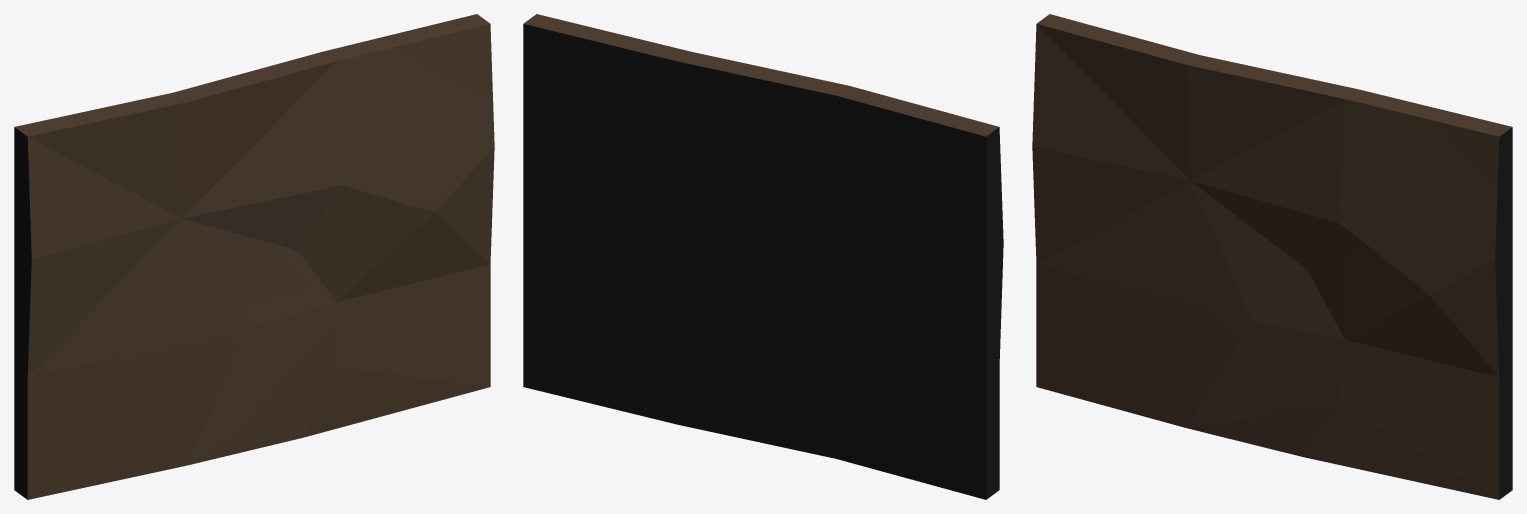
Rendered from fantasy_dungeon-wall-dirt.fbx.
3 views of the same model, side by side, from view 1: azimuth 30°, elevation 25°; view 2: azimuth 150°, elevation 25°; view 3: azimuth 330°, elevation 25° (orthographic).
Visible parts, largest first — view 1: fantasy_dungeon_wall_dirt; view 2: fantasy_dungeon_wall_dirt; view 3: fantasy_dungeon_wall_dirt.
Boxes of the visible parts, x1,y1,x2,y2 form: fantasy_dungeon_wall_dirt: [14, 14, 494, 499]; fantasy_dungeon_wall_dirt: [523, 14, 1003, 499]; fantasy_dungeon_wall_dirt: [1032, 14, 1512, 499].
Bounding box in the file's own units: 200 × 150 × 15.16.
